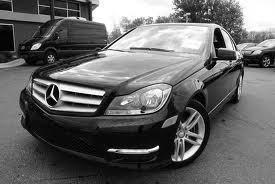car: (11, 12, 255, 180)
